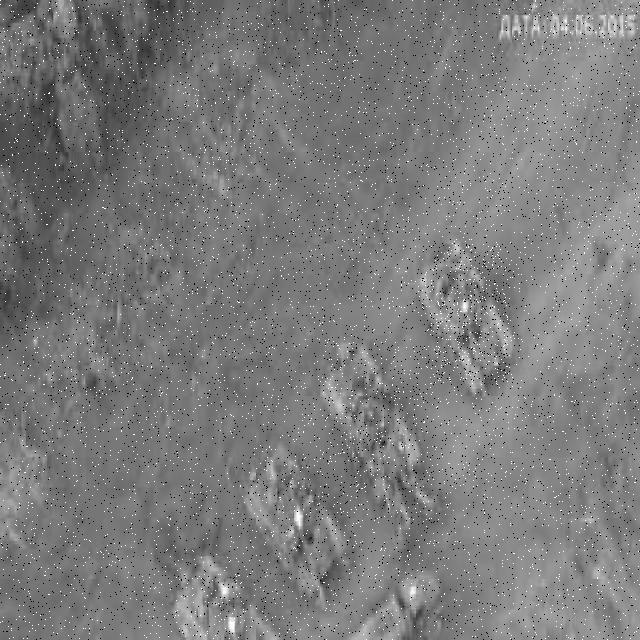MIL_MBT: (323, 341, 433, 520), (422, 242, 511, 386), (245, 462, 340, 576), (176, 571, 270, 640)
